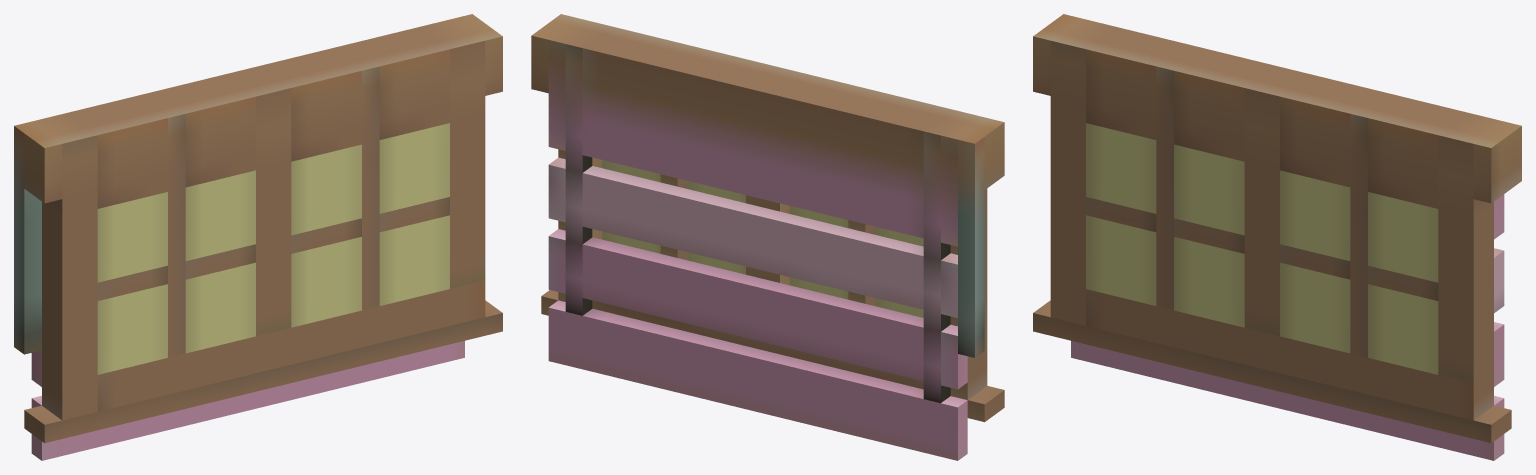
The model's file is BlindsPink_A_00.obj.
3 renders of one model, left to right at view 1: azimuth 30°, elevation 25°; view 2: azimuth 150°, elevation 25°; view 3: azimuth 330°, elevation 25°, orthographic. The views are drawn at different scales.
Visible parts, largest first — view 1: BlindsPink_A_00; view 2: BlindsPink_A_00; view 3: BlindsPink_A_00.
Part boxes in pixels (x1,y1,x2,y2): BlindsPink_A_00: (14,14,502,460); BlindsPink_A_00: (531,14,1004,460); BlindsPink_A_00: (1033,14,1521,460).
Size of the model in its own units: 1.3 by 0.9 by 0.15.
